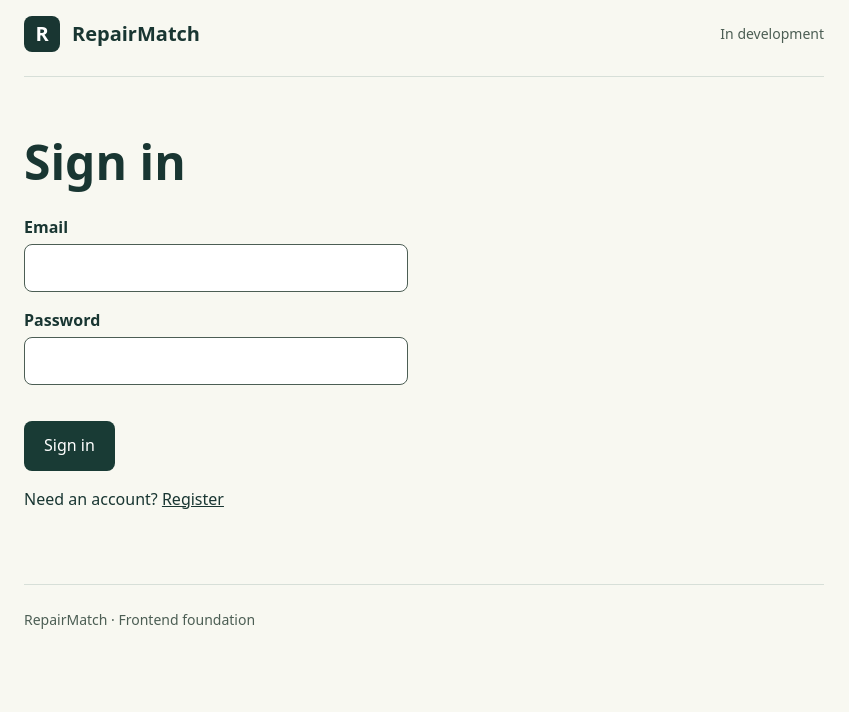
login form › explains a network failure in the one error summary
Type "client@example.test" into the field labelled "Email" at (216, 268), box x1=24 y1=244 x2=408 y2=292
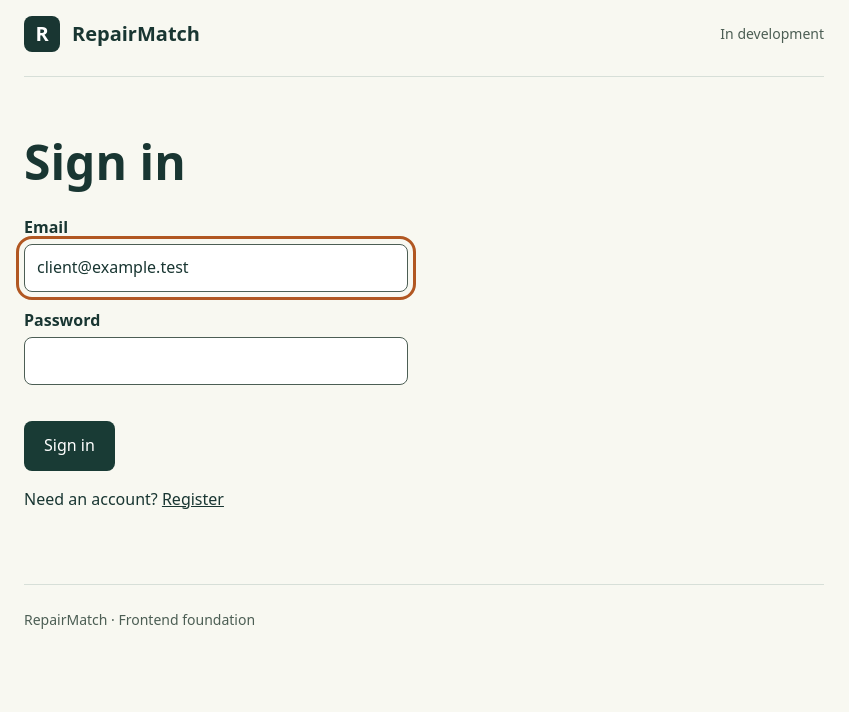
Type "Test-pass-1" into the password field labelled "Password" at (216, 361), box x1=24 y1=337 x2=408 y2=385
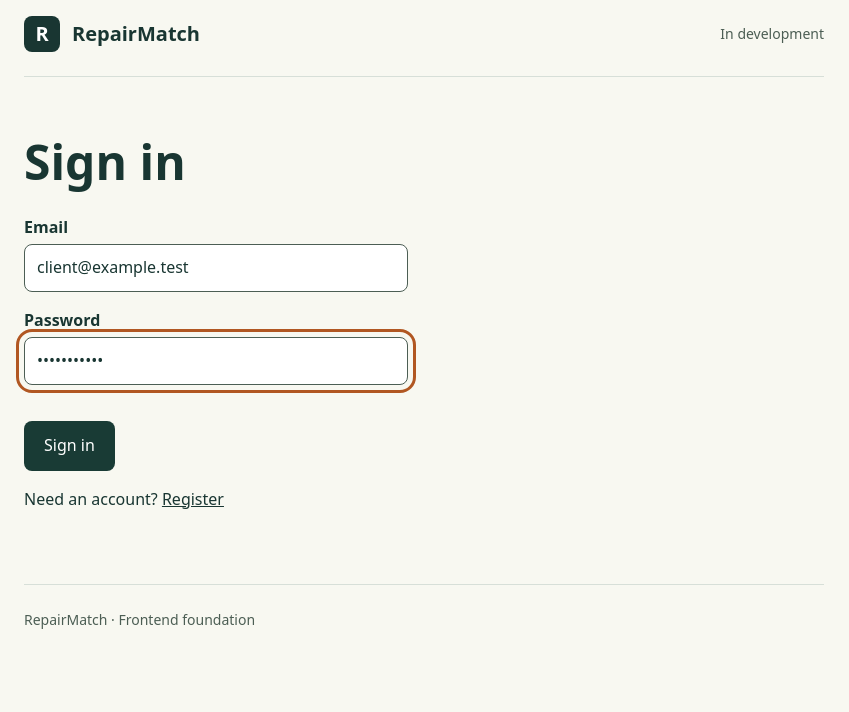
Click the button "Sign in" at (69, 446), box x1=24 y1=421 x2=115 y2=471
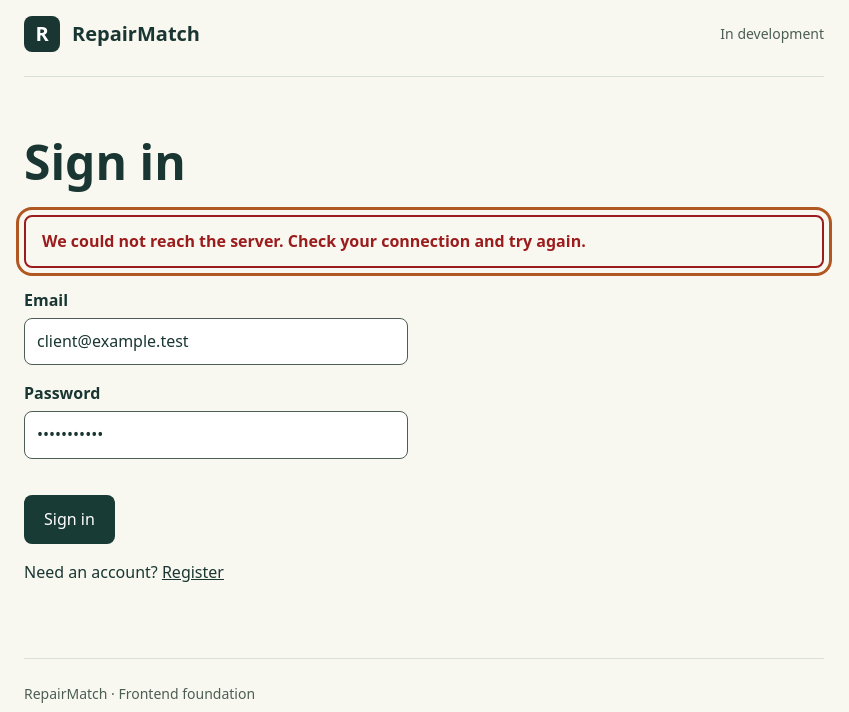
Check: the button "Sign in" is enabled, box x1=24 y1=495 x2=115 y2=544
Check: the message shows "We could not reach the server", box x1=42 y1=230 x2=586 y2=252
